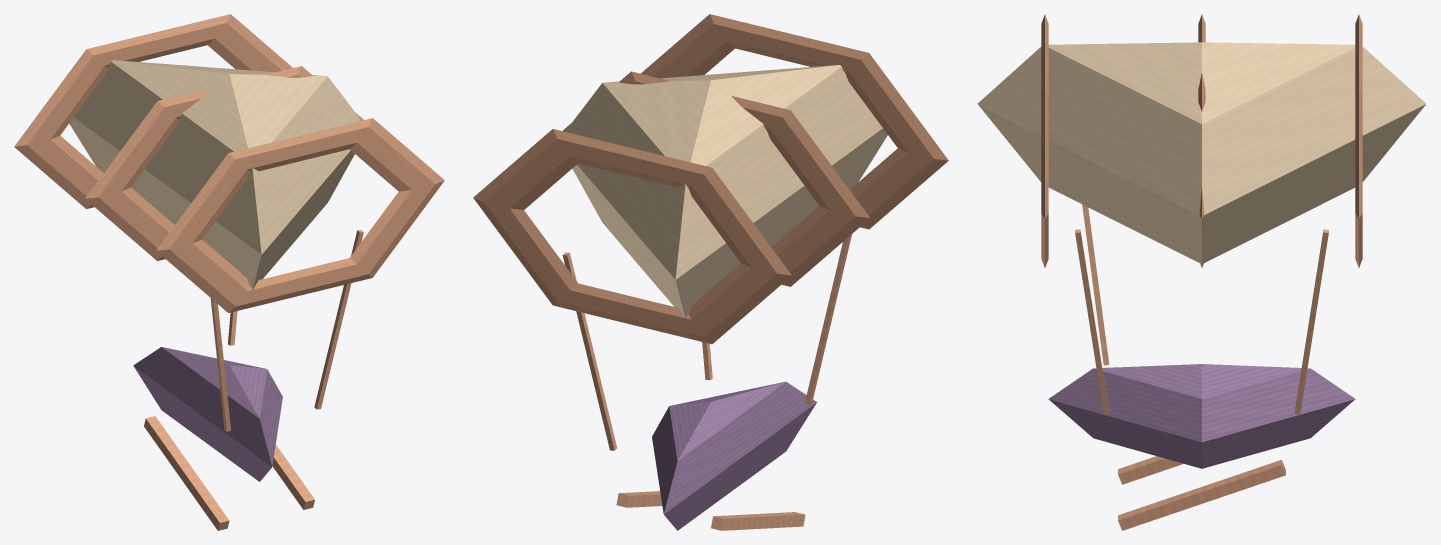
File: atlas100-s081-a02.lod1.glb
3 renders of one model, left to right at view 1: azimuth 30°, elevation 25°; view 2: azimuth 150°, elevation 25°; view 3: azimuth 270°, elevation 25°, orthographic. The views are drawn at different scales.
Visible parts, largest first — view 1: atlas100-s081-a02:part-003, atlas100-s081-a02:part-010, atlas100-s081-a02:part-008, atlas100-s081-a02:part-000, atlas100-s081-a02:part-009, atlas100-s081-a02:part-001, atlas100-s081-a02:part-007, atlas100-s081-a02:part-002, atlas100-s081-a02:part-005; view 2: atlas100-s081-a02:part-003, atlas100-s081-a02:part-008, atlas100-s081-a02:part-010, atlas100-s081-a02:part-000, atlas100-s081-a02:part-009, atlas100-s081-a02:part-001, atlas100-s081-a02:part-006, atlas100-s081-a02:part-005, atlas100-s081-a02:part-002; view 3: atlas100-s081-a02:part-003, atlas100-s081-a02:part-000, atlas100-s081-a02:part-002, atlas100-s081-a02:part-008, atlas100-s081-a02:part-010, atlas100-s081-a02:part-006, atlas100-s081-a02:part-007, atlas100-s081-a02:part-005, atlas100-s081-a02:part-001, atlas100-s081-a02:part-009.
Part boxes in pixels (box(x1,y1,x2,y2)): atlas100-s081-a02:part-003: box(69, 60, 360, 289); atlas100-s081-a02:part-010: box(156, 118, 444, 312); atlas100-s081-a02:part-008: box(14, 14, 292, 208); atlas100-s081-a02:part-000: box(133, 347, 282, 481); atlas100-s081-a02:part-009: box(85, 66, 363, 260); atlas100-s081-a02:part-001: box(144, 416, 229, 530); atlas100-s081-a02:part-007: box(314, 230, 363, 409); atlas100-s081-a02:part-002: box(272, 444, 314, 509); atlas100-s081-a02:part-005: box(210, 298, 230, 431); atlas100-s081-a02:part-003: box(566, 65, 887, 318); atlas100-s081-a02:part-008: box(473, 129, 791, 344); atlas100-s081-a02:part-010: box(641, 14, 948, 229); atlas100-s081-a02:part-000: box(652, 381, 816, 530); atlas100-s081-a02:part-009: box(562, 71, 869, 286); atlas100-s081-a02:part-001: box(711, 512, 805, 530); atlas100-s081-a02:part-006: box(562, 252, 616, 450); atlas100-s081-a02:part-005: box(805, 234, 851, 405); atlas100-s081-a02:part-002: box(616, 491, 662, 507); atlas100-s081-a02:part-003: box(977, 42, 1426, 263); atlas100-s081-a02:part-000: box(1048, 364, 1355, 468); atlas100-s081-a02:part-002: box(1118, 460, 1285, 530); atlas100-s081-a02:part-008: box(1355, 14, 1362, 267); atlas100-s081-a02:part-010: box(1041, 14, 1048, 267); atlas100-s081-a02:part-006: box(1294, 229, 1328, 414); atlas100-s081-a02:part-007: box(1075, 229, 1109, 414); atlas100-s081-a02:part-005: box(1082, 204, 1109, 365); atlas100-s081-a02:part-001: box(1118, 456, 1183, 484); atlas100-s081-a02:part-009: box(1198, 14, 1205, 267).
Bounding box in the file's own units: 2.7 × 3.74 × 3.29.
3 materials, 3 textured.
